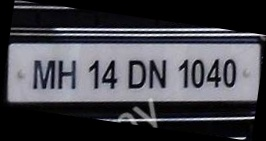character: (31, 58, 56, 89), (57, 58, 76, 90), (127, 58, 146, 89), (148, 58, 166, 89), (222, 57, 237, 89), (101, 59, 117, 88), (206, 58, 221, 88), (190, 58, 204, 88), (177, 57, 189, 88), (87, 59, 99, 89)
